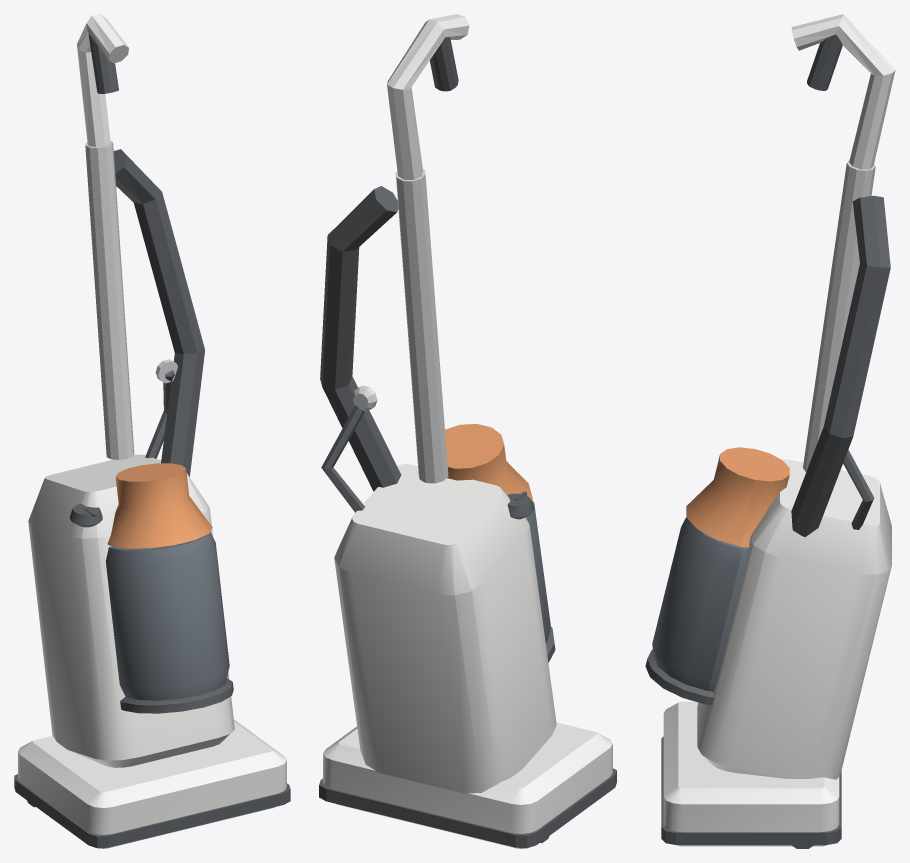
File: home-appliances-and-utility-vacuum-upright-00e4bc36__14152.glb
3 renders of one model, left to right at view 1: azimuth 30°, elevation 25°; view 2: azimuth 150°, elevation 25°; view 3: azimuth 270°, elevation 25°, orthographic. The views are drawn at different scales.
Parts seen in each view (by area): view 1: vacuum-upright; view 2: vacuum-upright; view 3: vacuum-upright.
Part boxes in pixels (left/top/right/bottom): vacuum-upright: left=14, top=14, right=290, bottom=848; vacuum-upright: left=319, top=14, right=616, bottom=848; vacuum-upright: left=645, top=14, right=895, bottom=848.
Size of the model in its own units: 0.3261 by 1.18 by 0.3417.
